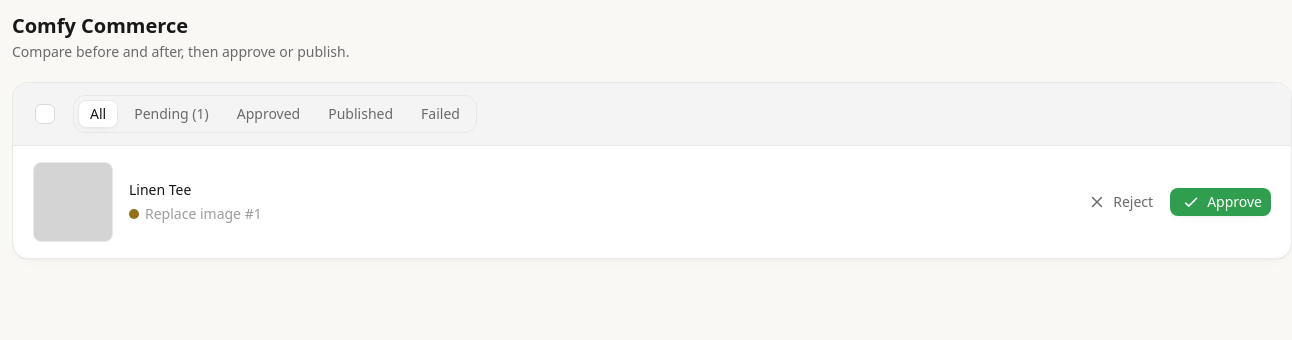
Test: ReviewPage error surfacing (#23) › an OperationResult with ok:false surfaces its per-item message
Click the button "Approve" at (1221, 202), box [1170, 188, 1271, 216]
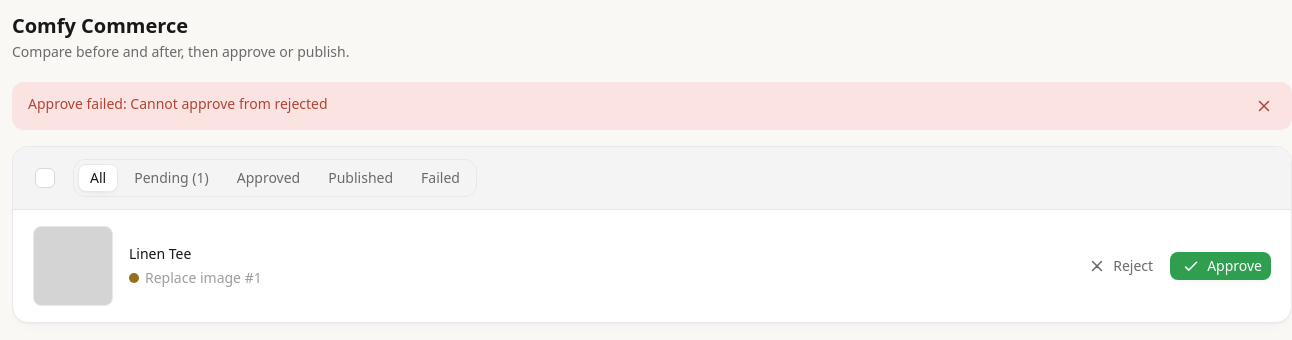
Result: the message reads "Approve failed: Cannot approve from rejected" at [28, 94, 328, 113]
